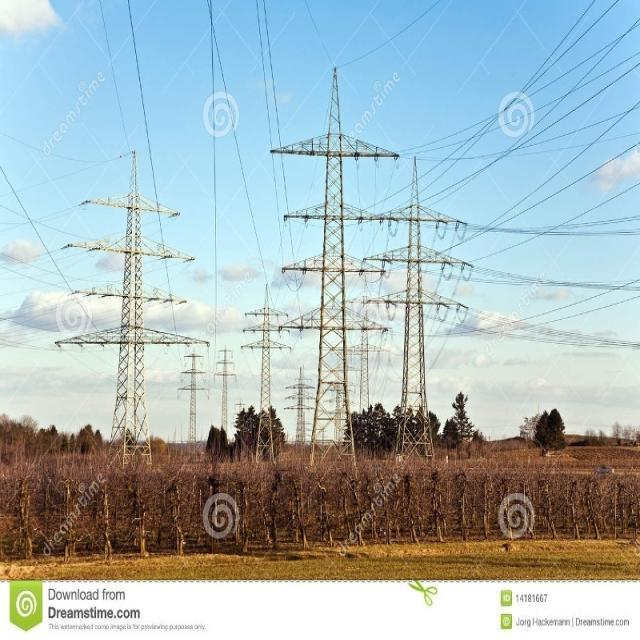non-critical vegetation: (281, 63, 374, 471), (76, 148, 181, 460), (366, 151, 462, 464), (241, 282, 289, 465), (176, 342, 207, 451), (213, 341, 236, 446), (286, 360, 314, 440)
